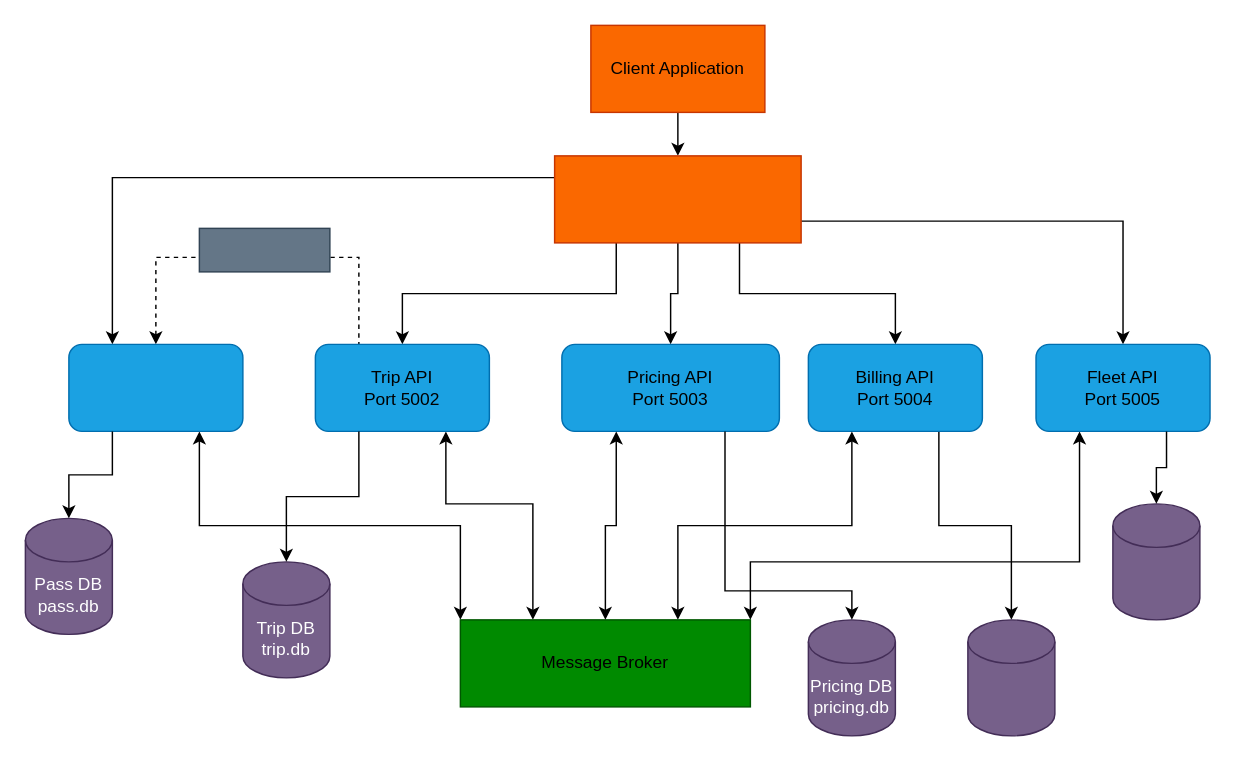
The diagram is 1235 pixels wide and 761 high, and some of its shapes have lost their labels. The shapes that lost their labels are listed below. From the top down, each one's centre as x and y in pixels, then its label:
At [677,198]: "API Gateway/Load Balancer Port 80/433".
At [264,249]: "HTTP Client pass validation".
At [155,387]: "Pass API Port 5001".
At [1155,561]: "Fleet DB fleet.db".
At [1010,677]: "Billing DB billing.db".
